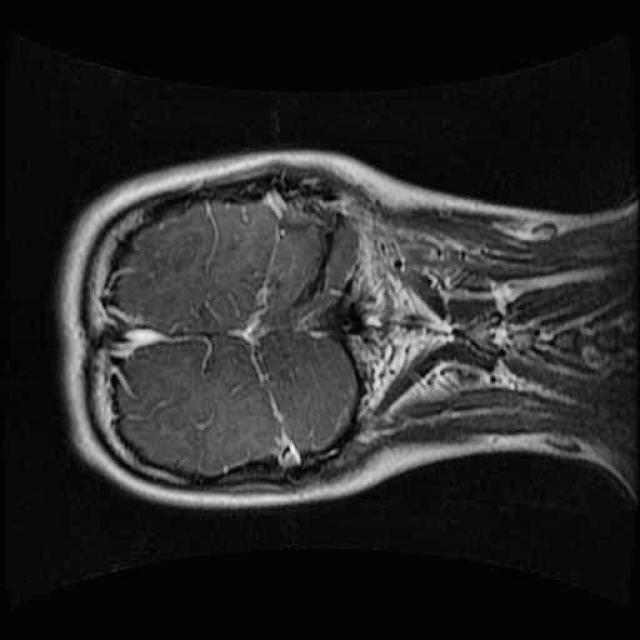Tumor: (123, 323, 218, 401)
